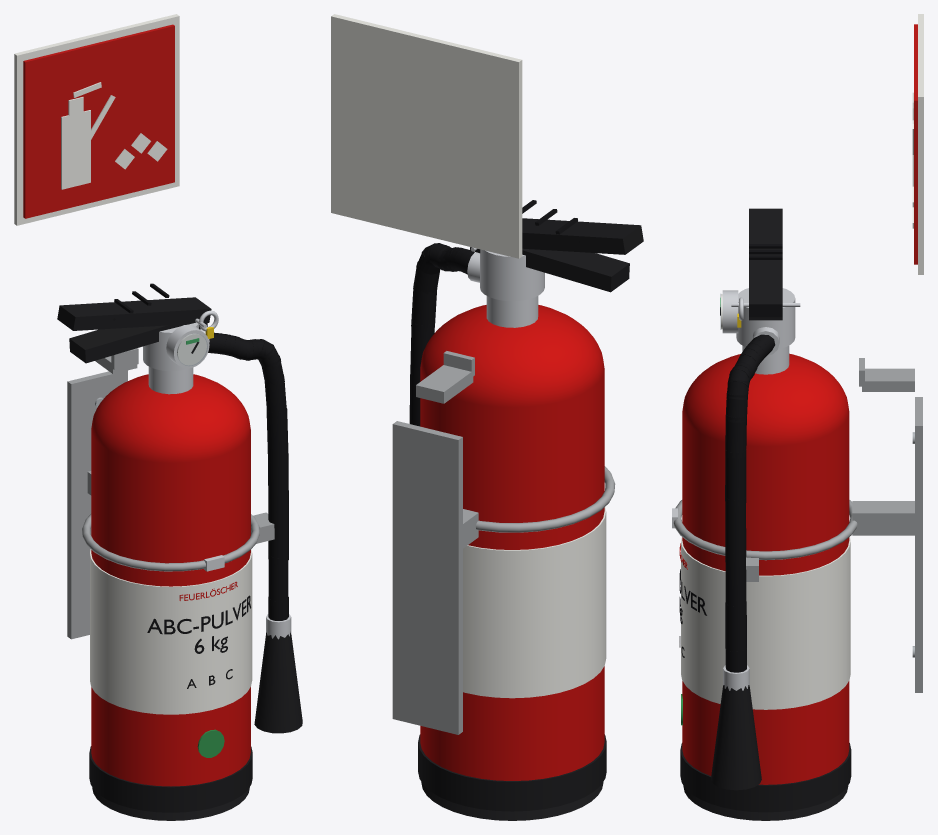
The model's file is extinguisher_station.glb.
3 renders of one model, left to right at view 1: azimuth 30°, elevation 25°; view 2: azimuth 150°, elevation 25°; view 3: azimuth 270°, elevation 25°, orthographic. The views are drawn at different scales.
Parts seen in each view (by area): view 1: extinguisher_Cylinder, extinguisher_station_Bracket, extinguisher_Lever, extinguisher_Txt_Agent; view 2: extinguisher_Cylinder, extinguisher_station_Bracket, extinguisher_Lever; view 3: extinguisher_Cylinder, extinguisher_station_Bracket, extinguisher_Lever.
Part boxes in pixels (x1,y1,x2,y2): extinguisher_Cylinder: (69, 310, 302, 820); extinguisher_station_Bracket: (14, 14, 259, 639); extinguisher_Lever: (57, 283, 211, 330); extinguisher_Txt_Agent: (147, 595, 250, 653); extinguisher_Cylinder: (409, 243, 629, 820); extinguisher_station_Bracket: (331, 14, 615, 734); extinguisher_Lever: (522, 200, 643, 254); extinguisher_Cylinder: (680, 288, 851, 820); extinguisher_station_Bracket: (672, 14, 923, 692); extinguisher_Lever: (749, 208, 782, 317).
Bounding box in the file's own units: 0.2711 × 0.821 × 0.2565.
